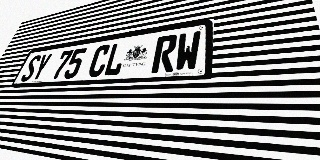5: (62, 48, 87, 79)
7: (50, 50, 74, 80)
C: (86, 44, 112, 77)
L: (102, 41, 128, 76)
R: (151, 34, 178, 73)
S: (19, 54, 42, 82)
W: (174, 30, 201, 72)
Y: (30, 53, 53, 81)
